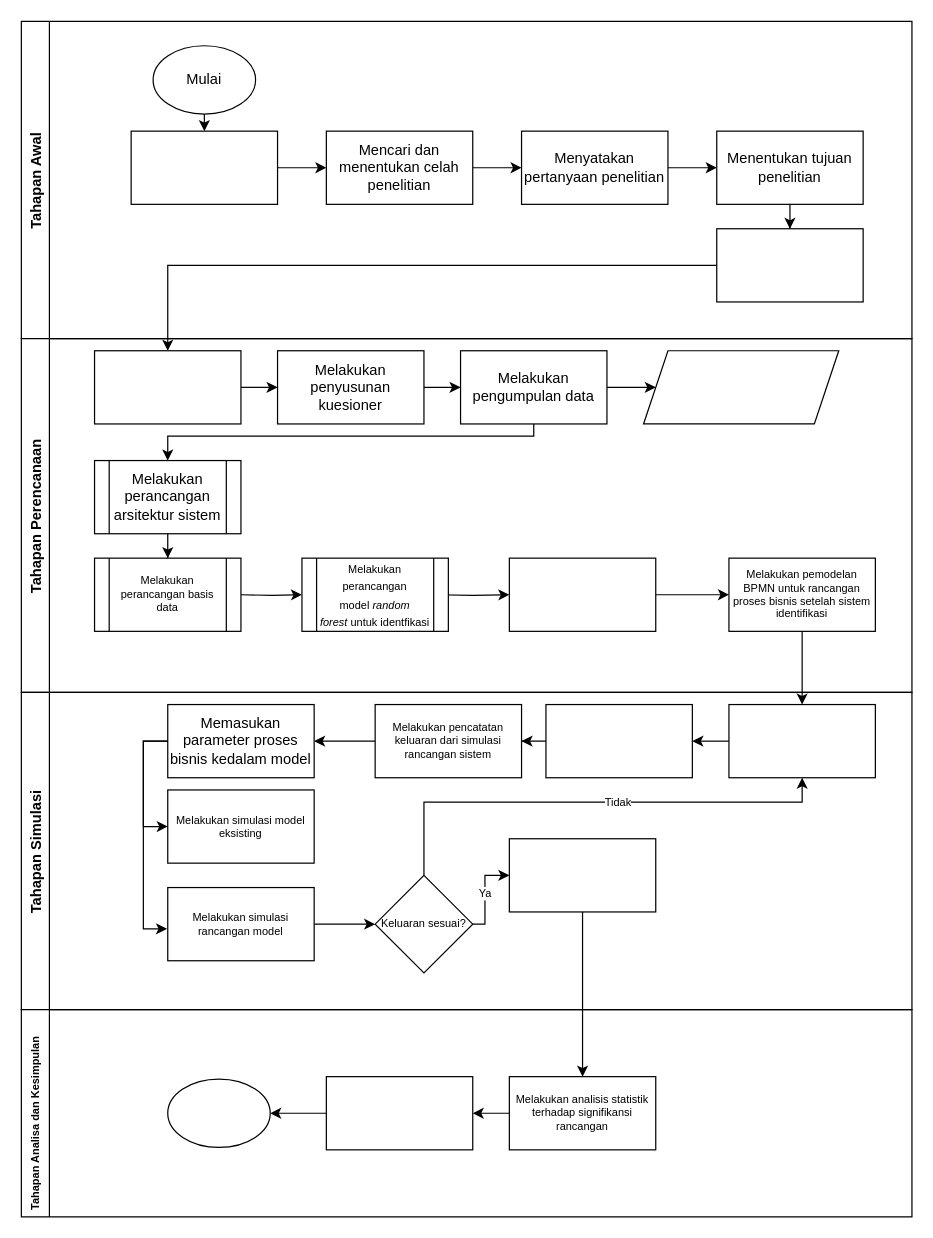
This 933x1238 diagram has some shape labels left out. The shapes that lost their labels are listed below. From the top down, each one's centre as x and y in pixels, then its label:
At point 204,167: "Melakukan studi literatur".
At point 789,265: "Menyusun metodologi penelitian".
At point 167,387: "Melakukan penentuan sumber dan pakar".
At point 740,387: "Data Kriteria pemilihan sumber daya, Data historis bisnis proses".
At point 582,594: "Melakukan pemodelan BPMN pada proses bisnis yang berjalan".
At point 618,740: "Melakukan simulasi identifikasi terhadap sistem identifikasi".
At point 801,740: "Melakukan simulasi terhadap sistem basis data".
At point 582,875: "Melakukan pencatatan keluaran sistem".
At point 218,1112: "Selesai".
At point 399,1112: "Menyusun kesimpulan dan saran".
